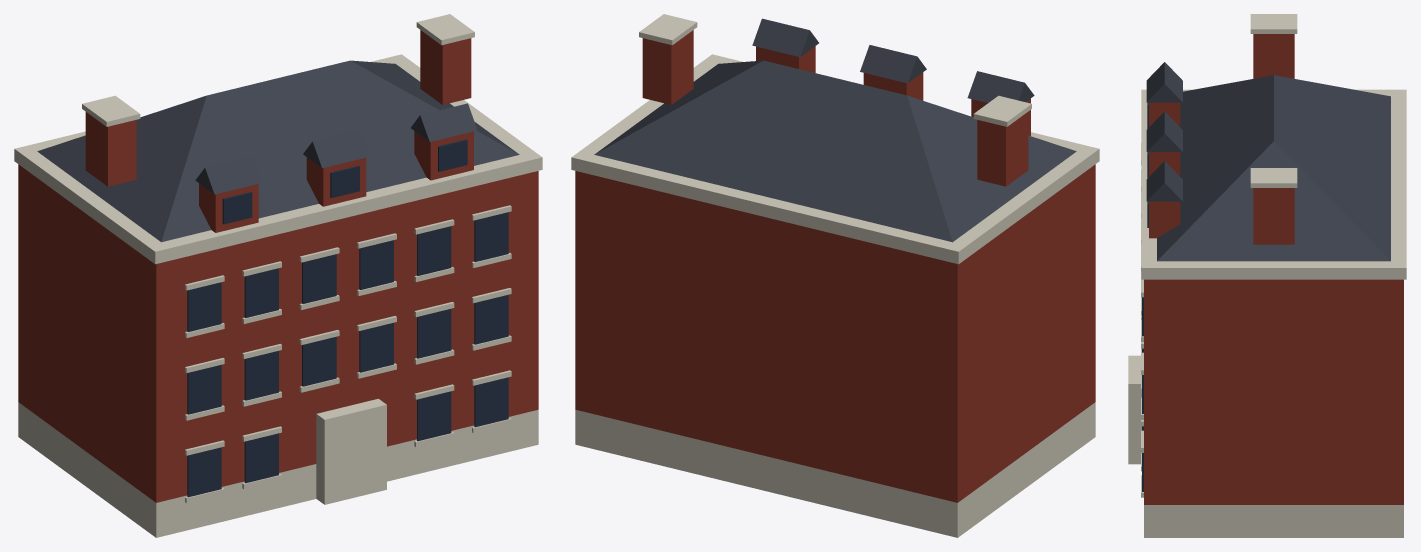
File: building_london_s1_redbrick_flats.glb
The picture shows the model from 3 angles, left to right: view 1: azimuth 30°, elevation 25°; view 2: azimuth 150°, elevation 25°; view 3: azimuth 270°, elevation 25°; orthographic projection. The views are drawn at different scales.
Parts seen in each view (by area): view 1: building_london_s1_redbrick_flats; view 2: building_london_s1_redbrick_flats; view 3: building_london_s1_redbrick_flats.
Boxes of the visible parts, x1=… form: building_london_s1_redbrick_flats: x1=14, y1=14, x2=542, y2=537; building_london_s1_redbrick_flats: x1=571, y1=14, x2=1099, y2=537; building_london_s1_redbrick_flats: x1=1128, y1=14, x2=1406, y2=537.
Bounding box in the file's own units: 16.2 × 14.9 × 10.7.
1 material, 1 textured.
